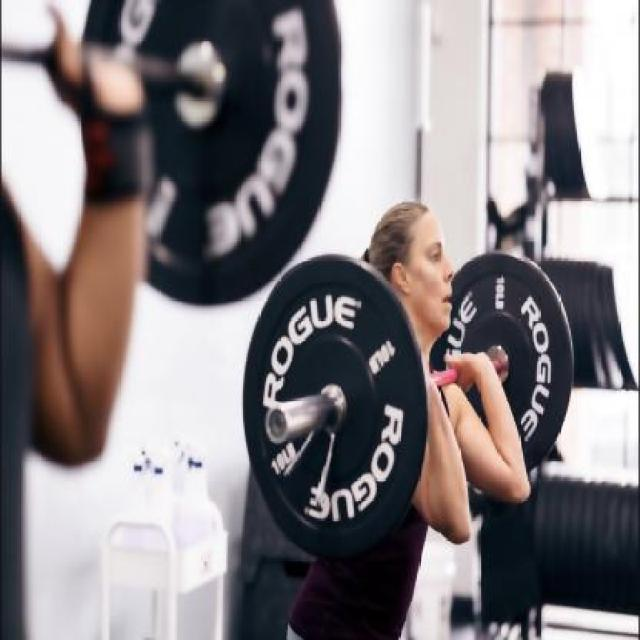barbell: (240, 249, 436, 563)
